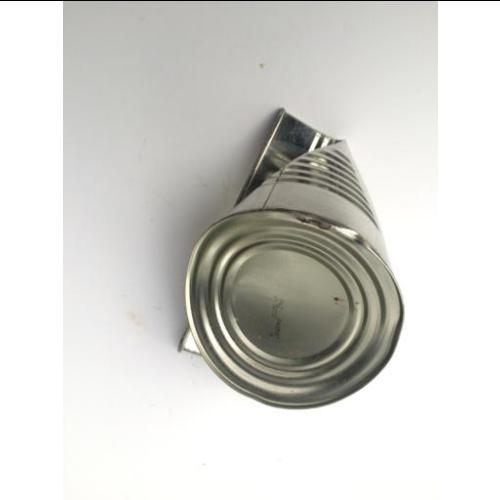metal: (178, 109, 406, 411)
